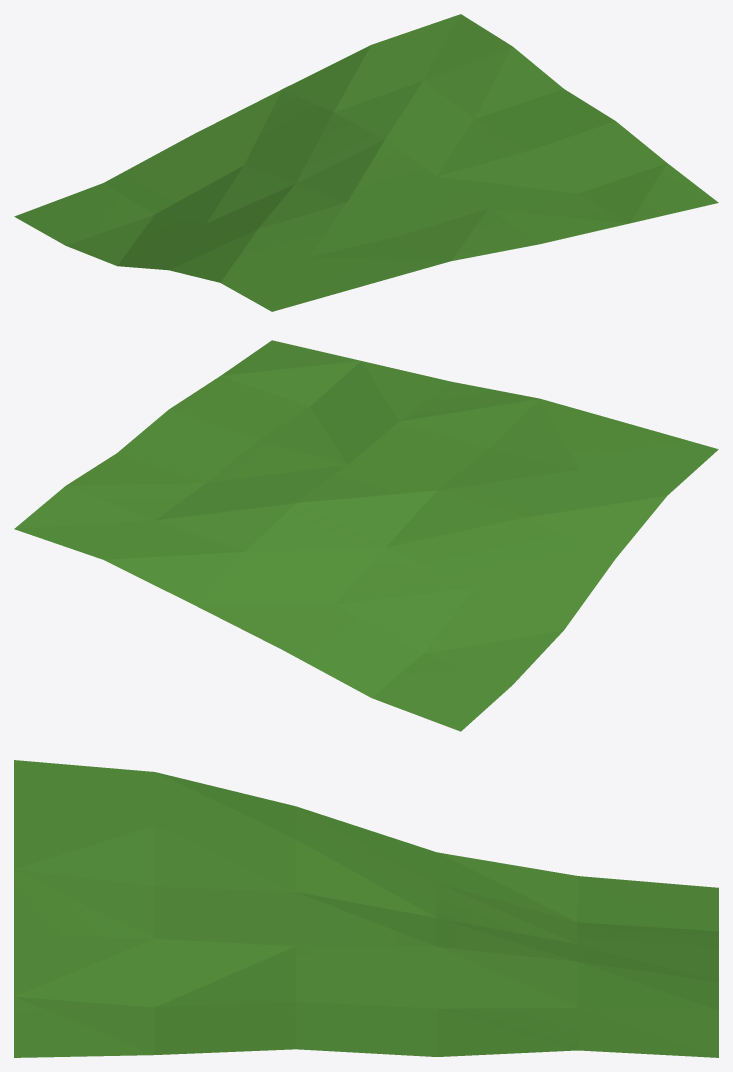
The model's file is terrains_terrain-plane-valley1.fbx.
The picture shows the model from 3 angles, top to bottom: view 1: azimuth 30°, elevation 25°; view 2: azimuth 150°, elevation 25°; view 3: azimuth 270°, elevation 25°; orthographic projection. The views are drawn at different scales.
Visible parts, largest first — view 1: terrains_terrain_plane_valley1; view 2: terrains_terrain_plane_valley1; view 3: terrains_terrain_plane_valley1.
Part boxes in pixels (bbox=[...]): terrains_terrain_plane_valley1: bbox=[14, 14, 718, 311]; terrains_terrain_plane_valley1: bbox=[14, 340, 718, 731]; terrains_terrain_plane_valley1: bbox=[14, 760, 718, 1057].
Size of the model in its own units: 200 by 43 by 200.
